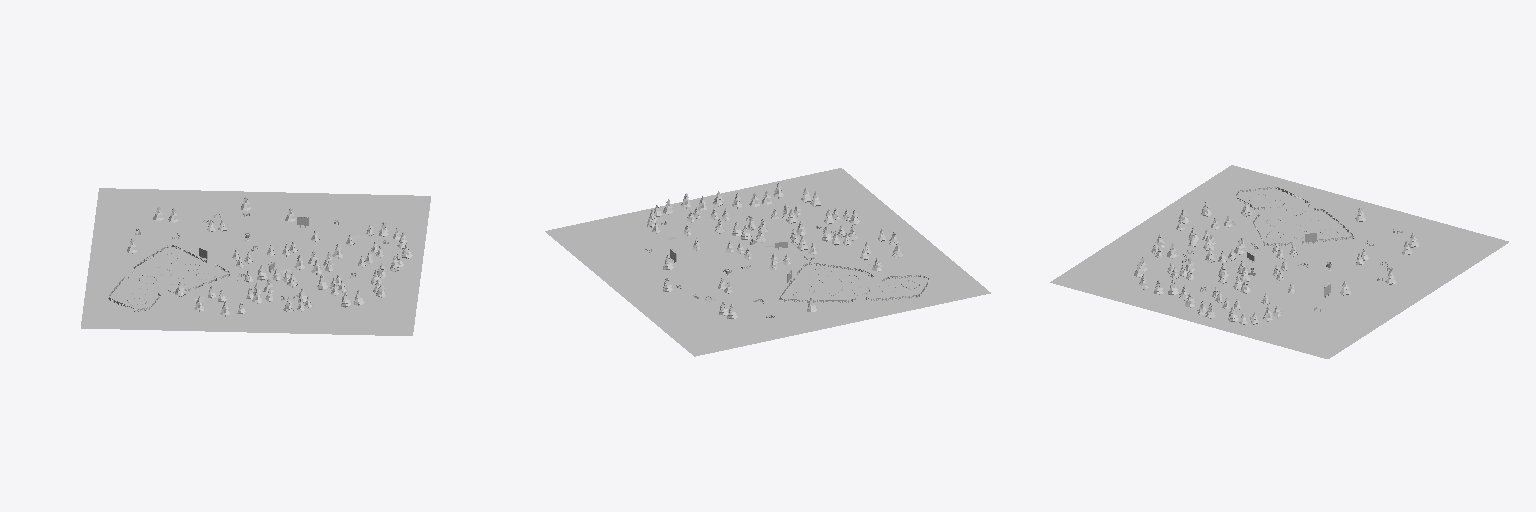
File: IntersectionRoad.obj
3 renders of one model, left to right at view 1: azimuth 30°, elevation 25°; view 2: azimuth 150°, elevation 25°; view 3: azimuth 270°, elevation 25°, orthographic.
Parts seen in each view (by area): view 1: Ground, Road, Plane; view 2: Ground, Road, Plane; view 3: Ground, Road, Plane.
Boxes of the visible parts, x1,y1,x2,y2 form: Ground: [81, 188, 430, 335]; Road: [97, 211, 366, 315]; Plane: [110, 247, 231, 310]; Ground: [545, 168, 990, 356]; Road: [631, 234, 941, 326]; Plane: [781, 264, 929, 302]; Ground: [1050, 165, 1508, 358]; Road: [1221, 184, 1432, 313]; Plane: [1236, 189, 1351, 246].
Size of the model in its own units: 893 by 41.35 by 893.